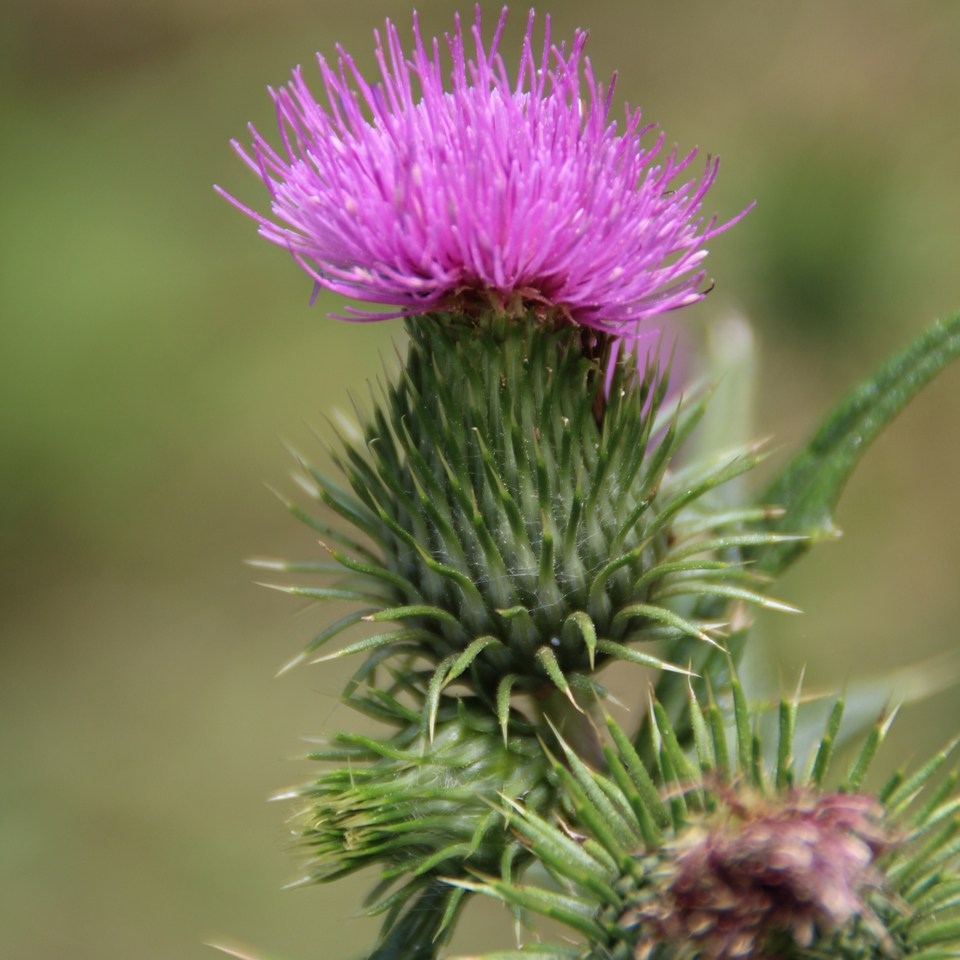thistle: (196, 18, 782, 696)
